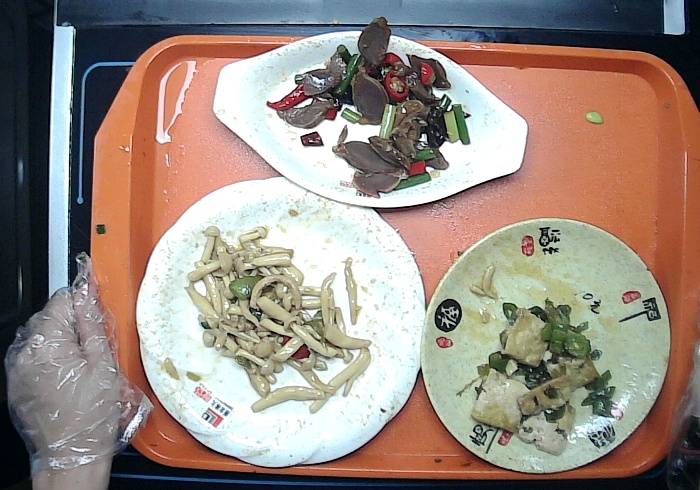NLDX-Bai_Zhe_Yuan_Pan: (137, 176, 427, 469)
NLDX-Fu_Zi_Yuan_Pan: (421, 218, 672, 473)
NLDX-Yu_Pan: (213, 32, 528, 207)
